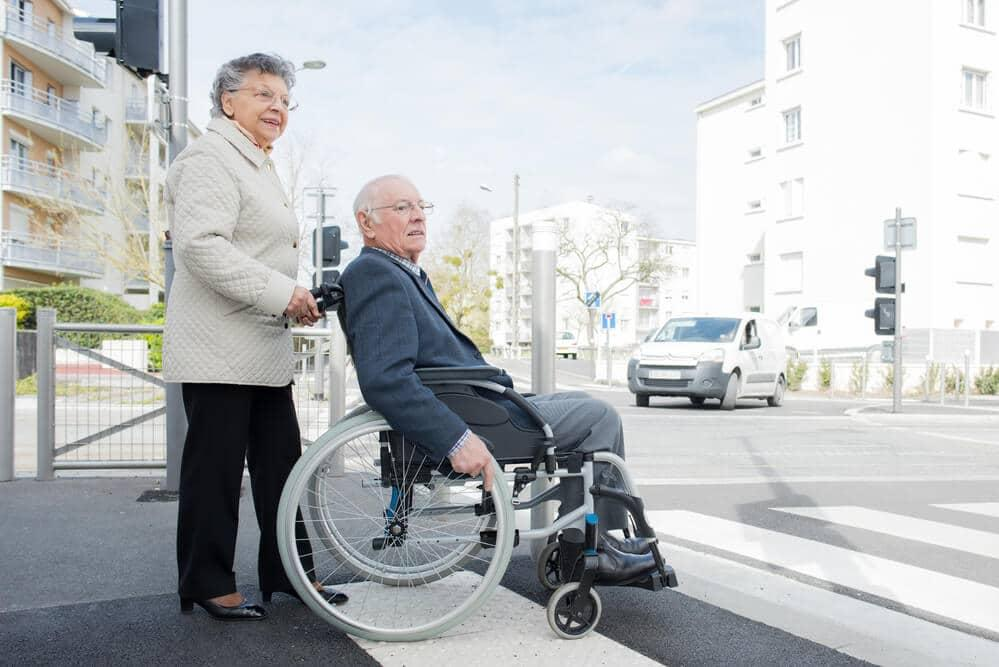push_wheelchair: (162, 53, 349, 621)
wheelchair: (276, 174, 679, 642)
